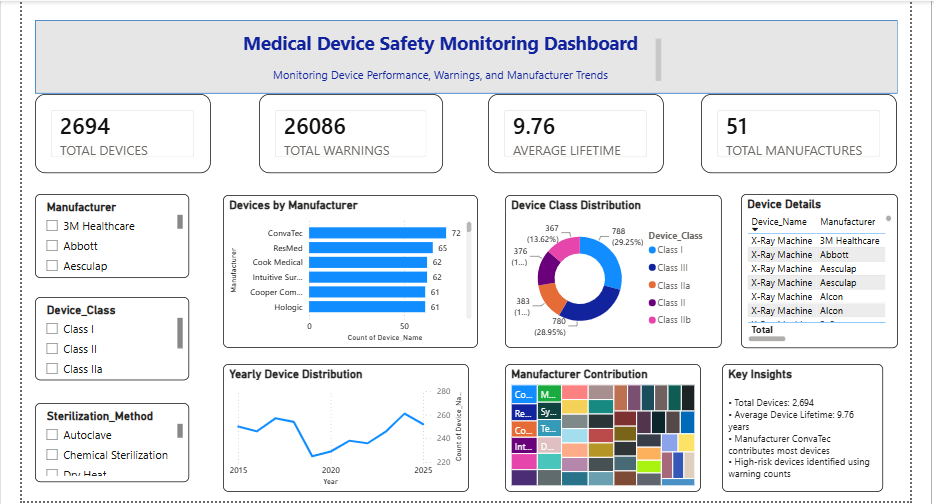

The page's visual inventory and layout, read from the dashboard file:
{"tool":"powerbi","page":{"name":"Page 1","canvas":[1280,720],"ordinal":0},"visuals":[{"type":"shape","box":[18.8,27.3,1242.4,106],"z":500},{"type":"cardVisual","fields":{"Data":["medical_device.TOTAL DEVICES"]},"box":[18.8,133.3,252.9,114.5],"z":1000},{"type":"cardVisual","fields":{"Data":["medical_device.TOTAL WARNINGS"]},"box":[341.8,133.3,264.9,114.5],"z":2000},{"type":"cardVisual","fields":{"Data":["medical_device.AVERAGE LIFETIME"]},"box":[671.6,133.3,252.9,114.5],"z":3000},{"type":"cardVisual","fields":{"Data":["medical_device.TOTAL MANUFACTURES"]},"box":[977.5,133.3,282,114.5],"z":4000},{"type":"slicer","fields":{"Values":["medical_device.Manufacturer"]},"box":[18.8,278.6,222.2,121.3],"z":5000},{"type":"slicer","fields":{"Values":["medical_device.Device_Class"]},"box":[18.7,426.2,221.8,119.5],"z":6000},{"type":"slicer","fields":{"Values":["medical_device.Sterilization_Method"]},"box":[18.7,578.9,221.8,113.8],"z":7000},{"type":"clusteredBarChart","title":"Devices by Manufacturer","fields":{"Category":["medical_device.Manufacturer"],"Y":["CountNonNull(medical_device.Device_Name)"]},"box":[289.4,279.4,367.2,220.3],"z":8000},{"type":"donutChart","title":"Device Class Distribution","fields":{"Category":["medical_device.Device_Class"],"Y":["CountNonNull(medical_device.Device_Name)"]},"box":[695.5,279.4,312.5,220.3],"z":9000},{"type":"lineChart","title":"Yearly Device Distribution","fields":{"Category":["medical_device.Publication_Date.Variation.Date Hierarchy.Year","medical_device.Publication_Date.Variation.Date Hierarchy.Quarter","medical_device.Publication_Date.Variation.Date Hierarchy.Month","medical_device.Publication_Date.Variation.Date Hierarchy.Day"],"Y2":["CountNonNull(medical_device.Device_Name)"]},"box":[289.4,522.7,354.2,184.3],"z":10000},{"type":"treemap","title":"Manufacturer Contribution","fields":{"Group":["medical_device.Manufacturer"],"Values":["CountNonNull(medical_device.Device_Name)"]},"box":[695.5,522.7,282.2,184.3],"z":11000},{"type":"tableEx","title":"Device Details","fields":{"Values":["medical_device.Device_Name","medical_device.Manufacturer","Sum(medical_device.Number_of_Warnings)","Sum(medical_device.Device_Lifetime_Years)","medical_device.RISK_CATEGORY"]},"box":[1035.4,277.9,226.1,221.8],"z":12000},{"type":"textbox","title":"Key Insights","box":[1008,522.7,231.8,184.3],"z":15000},{"type":"textbox","box":[288.8,42.7,635.7,76.9],"z":16000}]}

Visuals, with their boxes in screenshot pixels (x1, y1, x2, y2):
shape: box=[35, 19, 892, 92]
cardVisual - medical_device.TOTAL DEVICES: box=[35, 92, 209, 171]
cardVisual - medical_device.TOTAL WARNINGS: box=[258, 92, 440, 171]
cardVisual - medical_device.AVERAGE LIFETIME: box=[485, 92, 659, 171]
cardVisual - medical_device.TOTAL MANUFACTURES: box=[696, 92, 890, 171]
slicer - medical_device.Manufacturer: box=[35, 192, 188, 276]
slicer - medical_device.Device_Class: box=[35, 294, 188, 376]
slicer - medical_device.Sterilization_Method: box=[35, 399, 188, 478]
"Devices by Manufacturer" clusteredBarChart: box=[221, 193, 475, 345]
"Device Class Distribution" donutChart: box=[502, 193, 717, 345]
"Yearly Device Distribution" lineChart: box=[221, 360, 466, 488]
"Manufacturer Contribution" treemap: box=[502, 360, 696, 488]
"Device Details" tableEx: box=[736, 192, 892, 345]
"Key Insights" textbox: box=[717, 360, 877, 488]
textbox: box=[221, 29, 659, 82]
